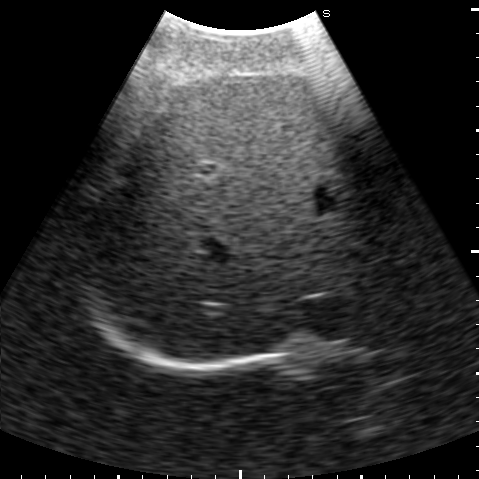S5: (139, 74, 340, 179)
S7: (81, 144, 182, 295)
S8: (129, 172, 373, 362)
